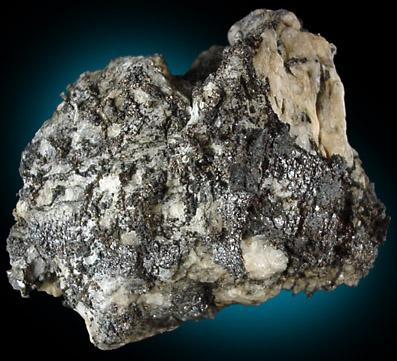silver: (7, 9, 390, 350), (8, 44, 390, 350)
